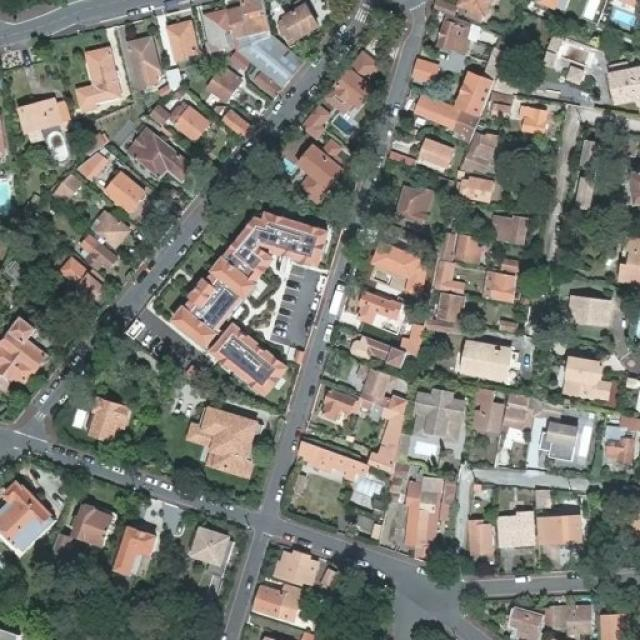immeuble: (185, 211, 325, 388), (185, 402, 258, 476), (416, 66, 498, 130), (0, 322, 50, 392)
maison: (0, 474, 72, 554), (75, 148, 151, 212), (106, 515, 166, 588), (402, 473, 451, 562), (121, 125, 195, 181), (16, 99, 76, 163), (246, 581, 318, 634), (288, 141, 346, 202), (556, 350, 618, 406), (326, 54, 384, 113), (78, 390, 137, 448), (558, 280, 618, 337), (385, 131, 459, 177), (458, 333, 518, 388), (198, 1, 266, 49), (464, 381, 515, 442), (67, 498, 123, 552), (533, 497, 586, 554), (178, 523, 242, 570), (364, 248, 435, 290), (475, 253, 529, 308), (358, 284, 417, 332), (116, 34, 164, 92), (540, 592, 596, 639), (78, 51, 122, 110), (447, 166, 508, 207), (384, 185, 442, 228), (85, 208, 130, 262), (510, 96, 564, 140), (431, 12, 477, 62), (314, 385, 369, 426), (486, 206, 538, 249), (601, 414, 640, 469), (599, 56, 640, 106), (154, 99, 209, 136), (498, 601, 544, 640), (272, 2, 320, 38), (466, 511, 495, 561), (167, 21, 197, 62), (210, 66, 244, 99)
piscine: (345, 468, 394, 508), (401, 428, 453, 463), (570, 412, 599, 469), (602, 0, 639, 32), (274, 143, 302, 182), (64, 400, 93, 437), (0, 173, 17, 214)
